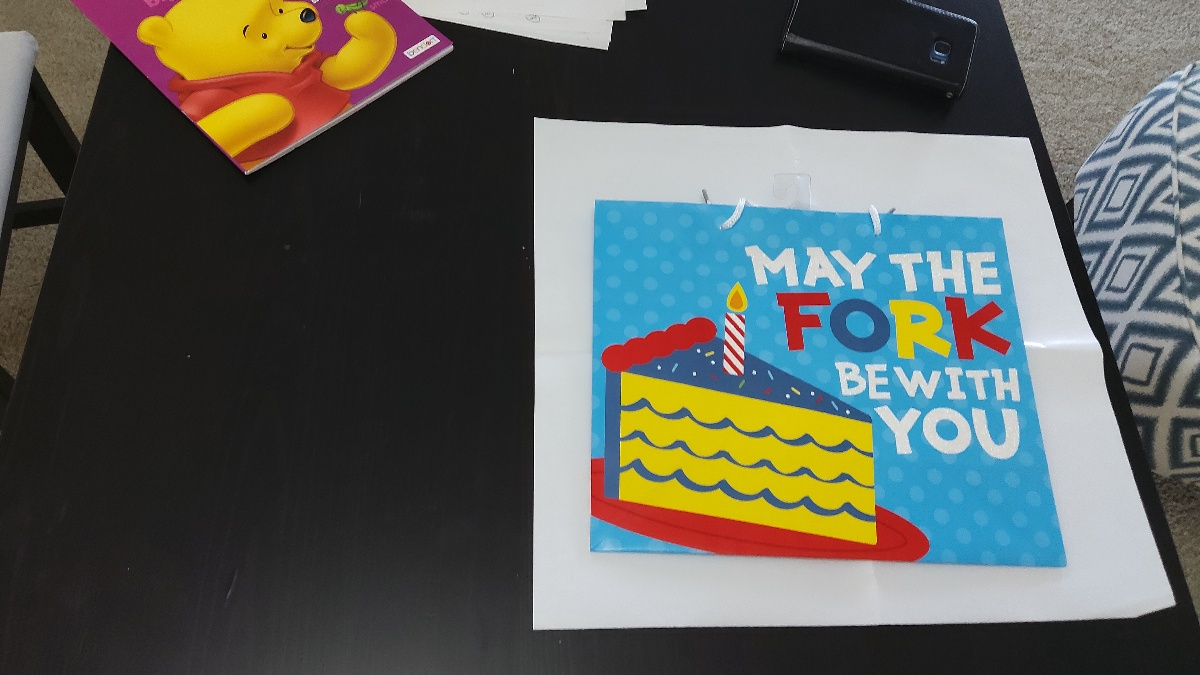paper_bag: (597, 202, 1055, 564)
